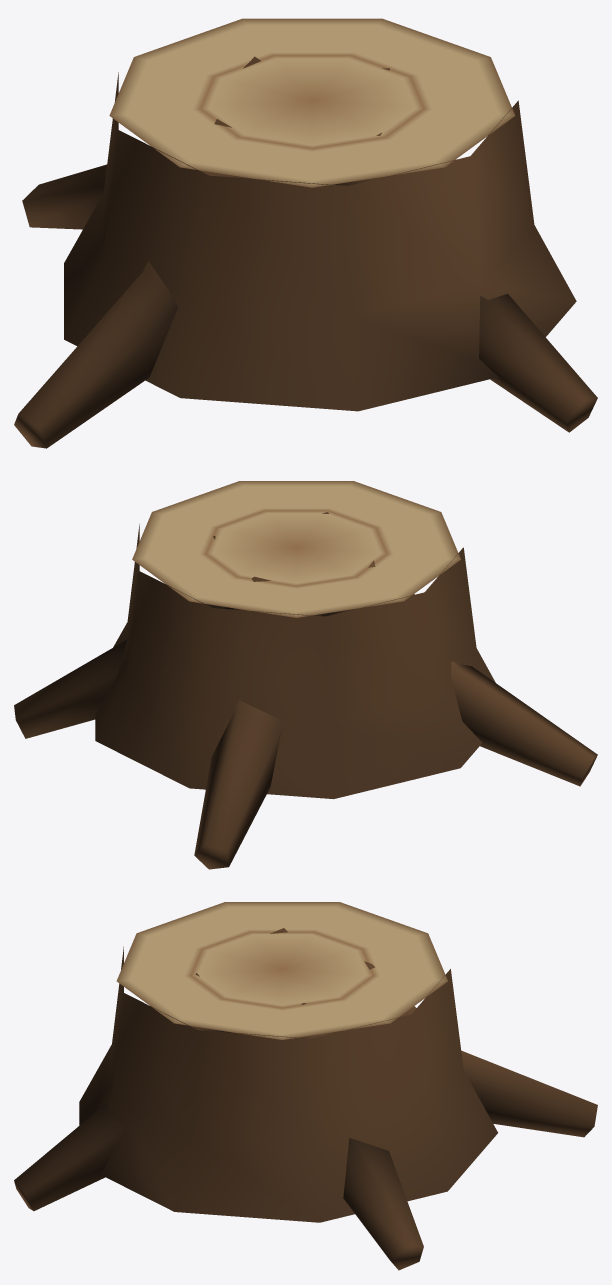
The model's file is tree-stump.glb.
The picture shows the model from 3 angles, top to bottom: view 1: azimuth 30°, elevation 25°; view 2: azimuth 150°, elevation 25°; view 3: azimuth 270°, elevation 25°; orthographic projection. The views are drawn at different scales.
Parts seen in each view (by area): view 1: 0_stump.001; view 2: 0_stump.001; view 3: 0_stump.001.
Part boxes in pixels (left/top/right/bottom): 0_stump.001: left=14, top=18, right=597, bottom=448; 0_stump.001: left=14, top=481, right=597, bottom=869; 0_stump.001: left=14, top=902, right=597, bottom=1270.
Size of the model in its own units: 1.32 by 0.5185 by 1.35.
